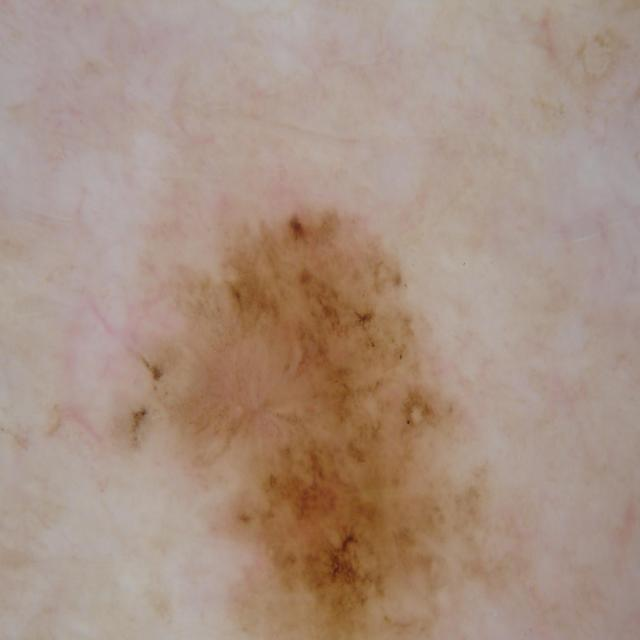Melanoma: (111, 172, 495, 638)
